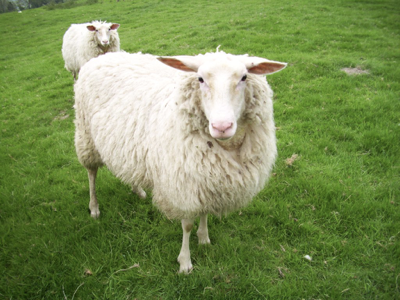koyun: (74, 53, 286, 278), (62, 20, 119, 51)
